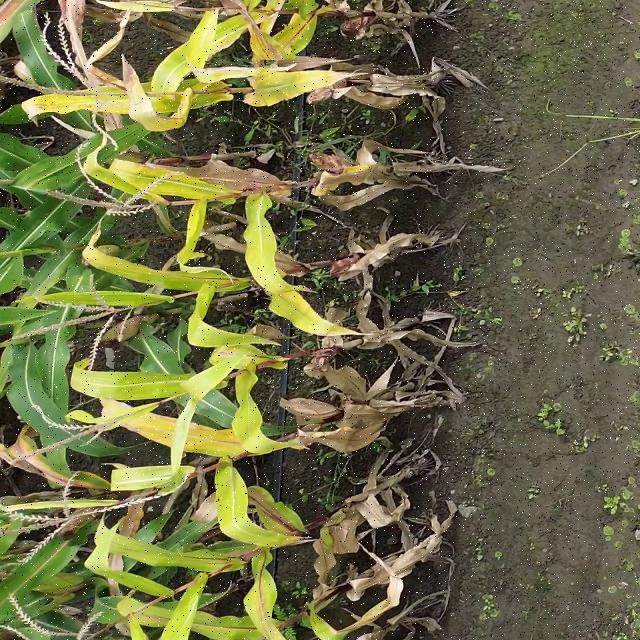northern-leaf-blight: (10, 444, 83, 487), (255, 495, 298, 533), (248, 584, 274, 640), (216, 347, 275, 364), (283, 17, 311, 52), (0, 0, 31, 31)
